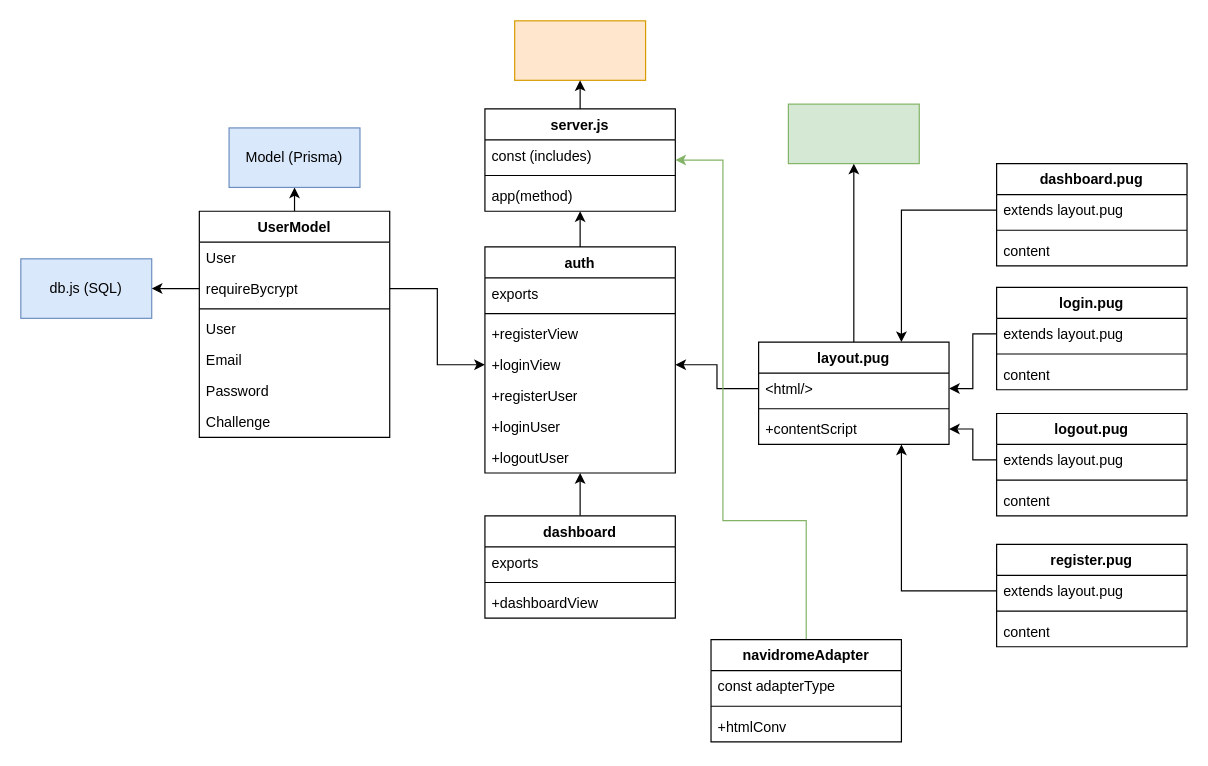
This 1208x766 diagram has some shape labels left out. Each missing label, with the centre of its shape:
Controllers: point (579, 50)
Views: point (853, 133)
